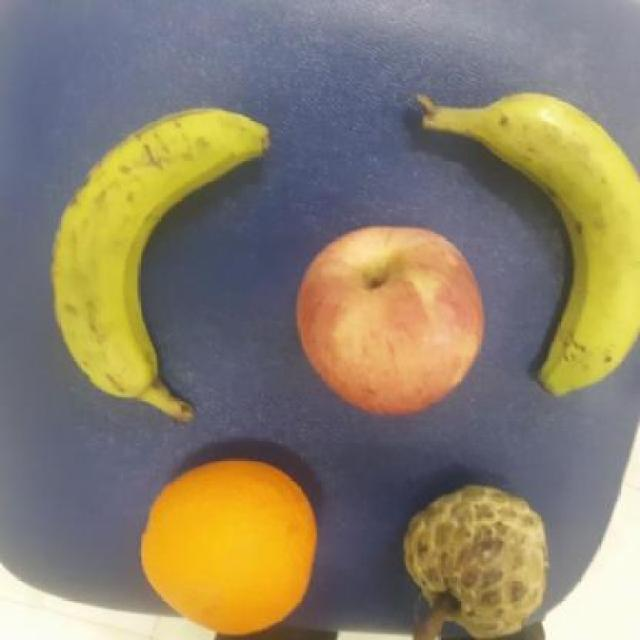apple: (294, 221, 492, 417)
banana: (46, 101, 286, 402), (473, 88, 639, 400)
oren: (134, 453, 318, 635)
sugar apple: (402, 501, 562, 640)
